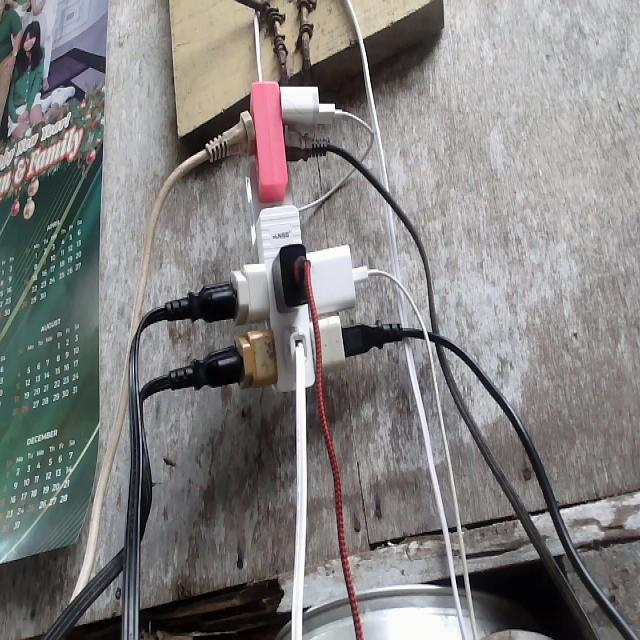-: (160, 80, 406, 396)
